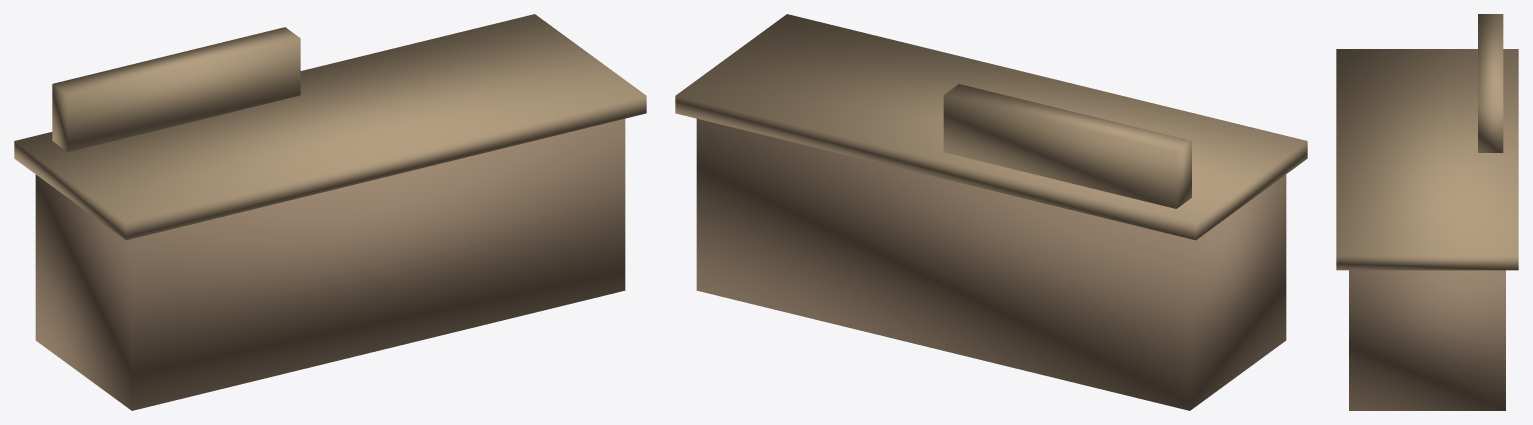
File: security_desk__squat.glb
The picture shows the model from 3 angles, left to right: view 1: azimuth 30°, elevation 25°; view 2: azimuth 150°, elevation 25°; view 3: azimuth 270°, elevation 25°; orthographic projection. The views are drawn at different scales.
Parts seen in each view (by area): view 1: world; view 2: world; view 3: world.
Part boxes in pixels (box(x1,y1,x2,y2)): world: box(14, 14, 646, 410); world: box(675, 14, 1307, 410); world: box(1336, 14, 1518, 410).
Bounding box in the file's own units: 2.09 × 0.9744 × 0.7776.
